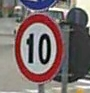limite 10: (14, 12, 64, 82)
